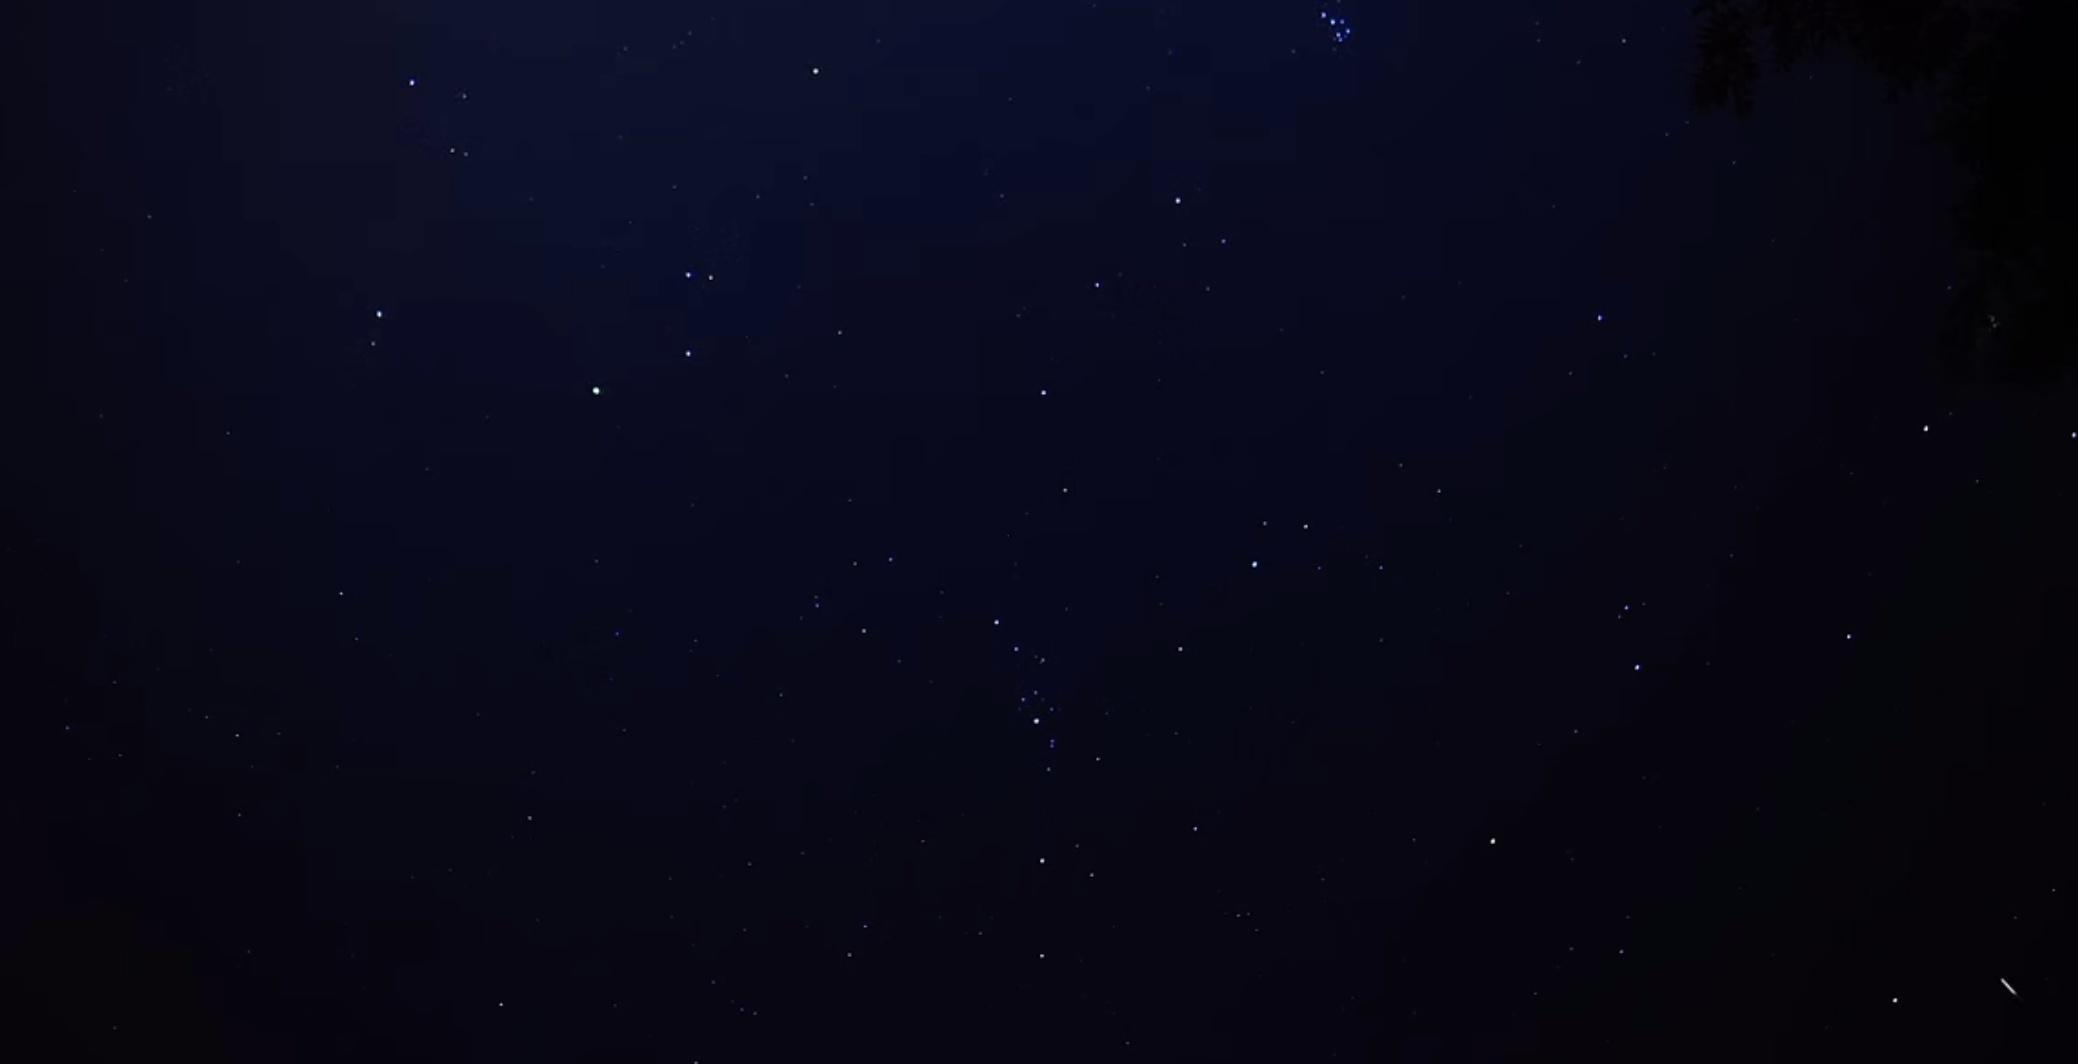meteorite: (1959, 965, 2054, 1008)
